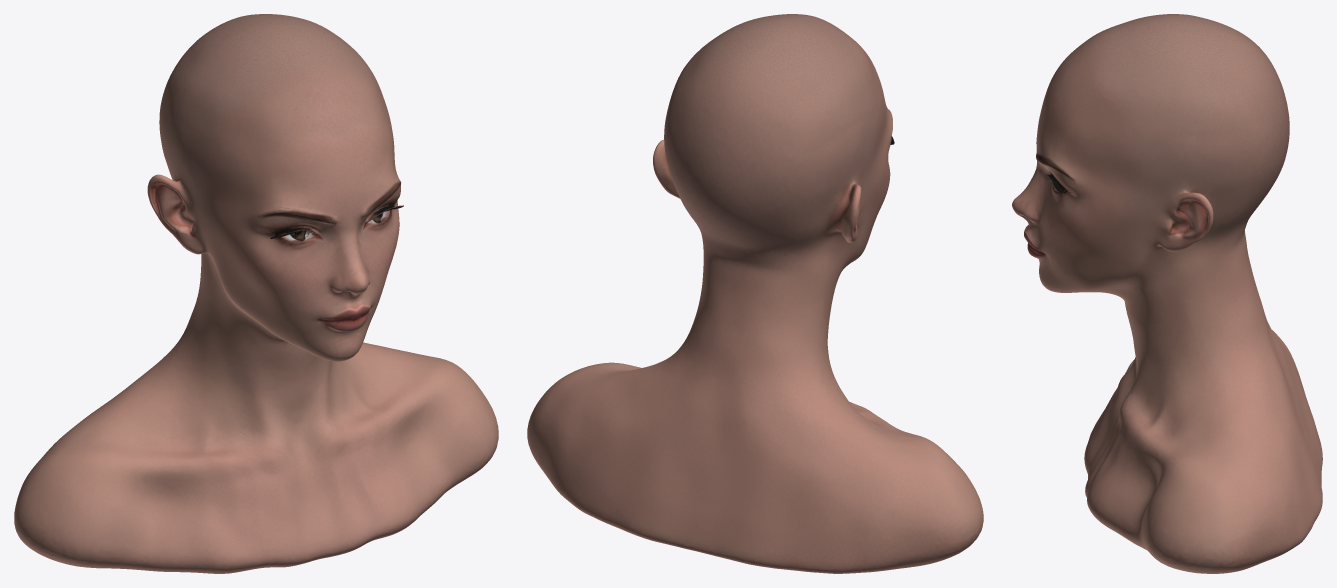
File: rosto_7.glb
The picture shows the model from 3 angles, left to right: view 1: azimuth 30°, elevation 25°; view 2: azimuth 150°, elevation 25°; view 3: azimuth 270°, elevation 25°; orthographic projection. The views are drawn at different scales.
Bounding box in the file's own units: 1.82 × 1.9 × 1.13.
Materials: 1 (1 with a texture image).
